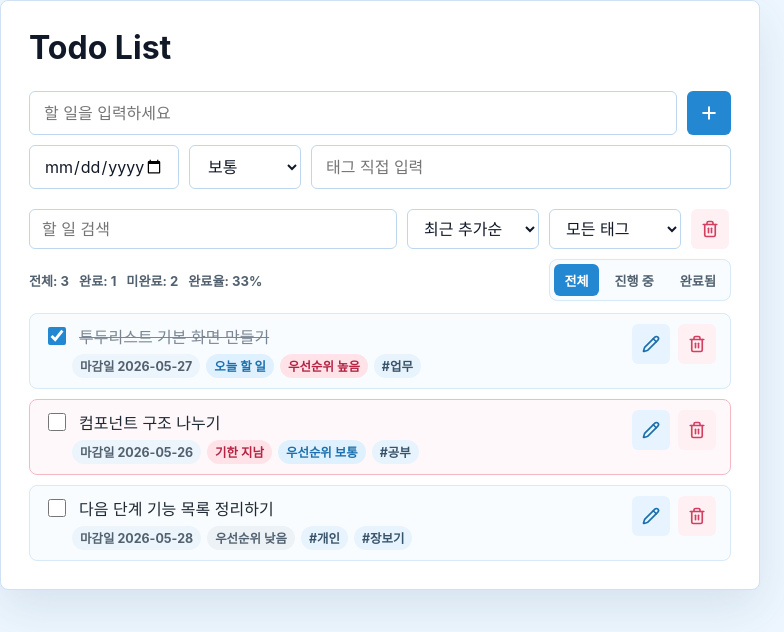
it: TodoApp › 태그로 할 일을 필터링할 수 있다.
Step 1. Select "공부" in the 3rd dropdown named "태그 필터" → point(615, 229), box left=549, top=209, right=681, bottom=249
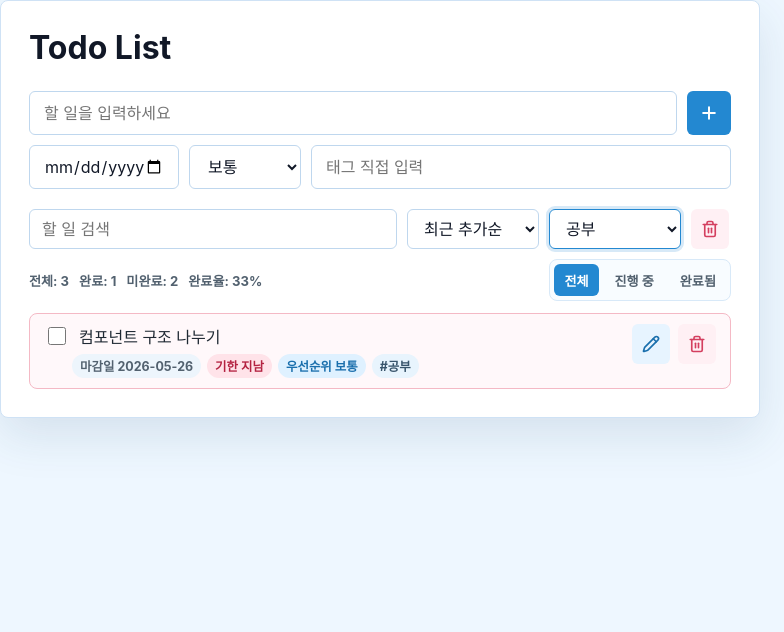
Expected: the text "컴포넌트 구조 나누기" is shown, left=79, top=324, right=220, bottom=348
Expected: the text "투두리스트 기본 화면 만들기" is gone
Expected: the text "다음 단계 기능 목록 정리하기" is gone
